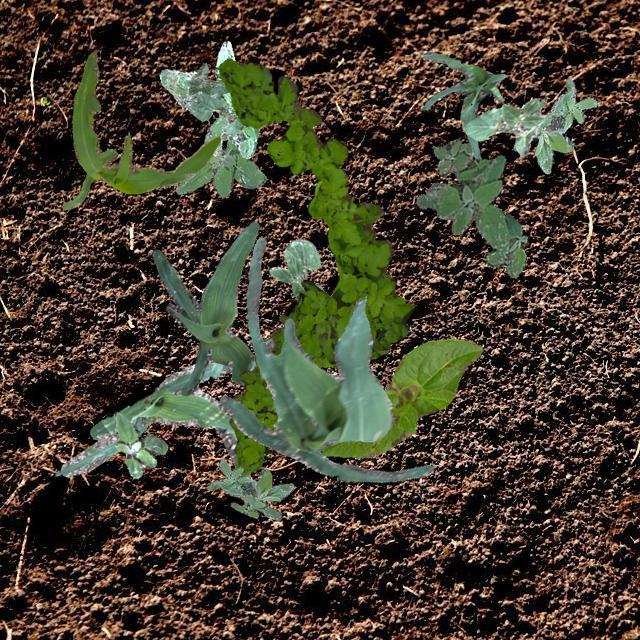crop: (218, 236, 432, 482), (62, 48, 220, 208), (150, 220, 274, 394), (55, 360, 236, 476), (320, 338, 482, 458), (419, 49, 504, 158), (462, 98, 544, 156), (268, 238, 322, 298), (184, 92, 246, 134), (185, 62, 228, 94)
weed: (215, 56, 414, 362), (228, 278, 390, 474), (416, 138, 526, 278), (158, 39, 255, 158), (174, 124, 264, 196), (530, 76, 596, 172), (206, 458, 292, 518), (112, 410, 166, 478)
